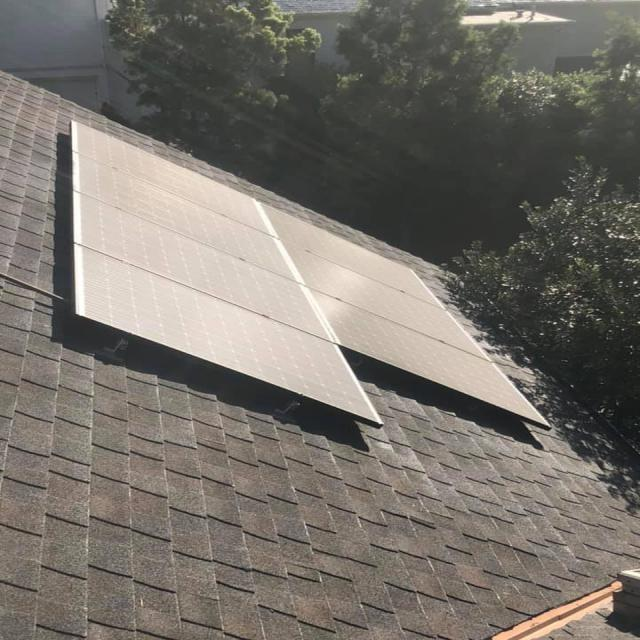Photovoltaic-Panel: (70, 121, 552, 428)
